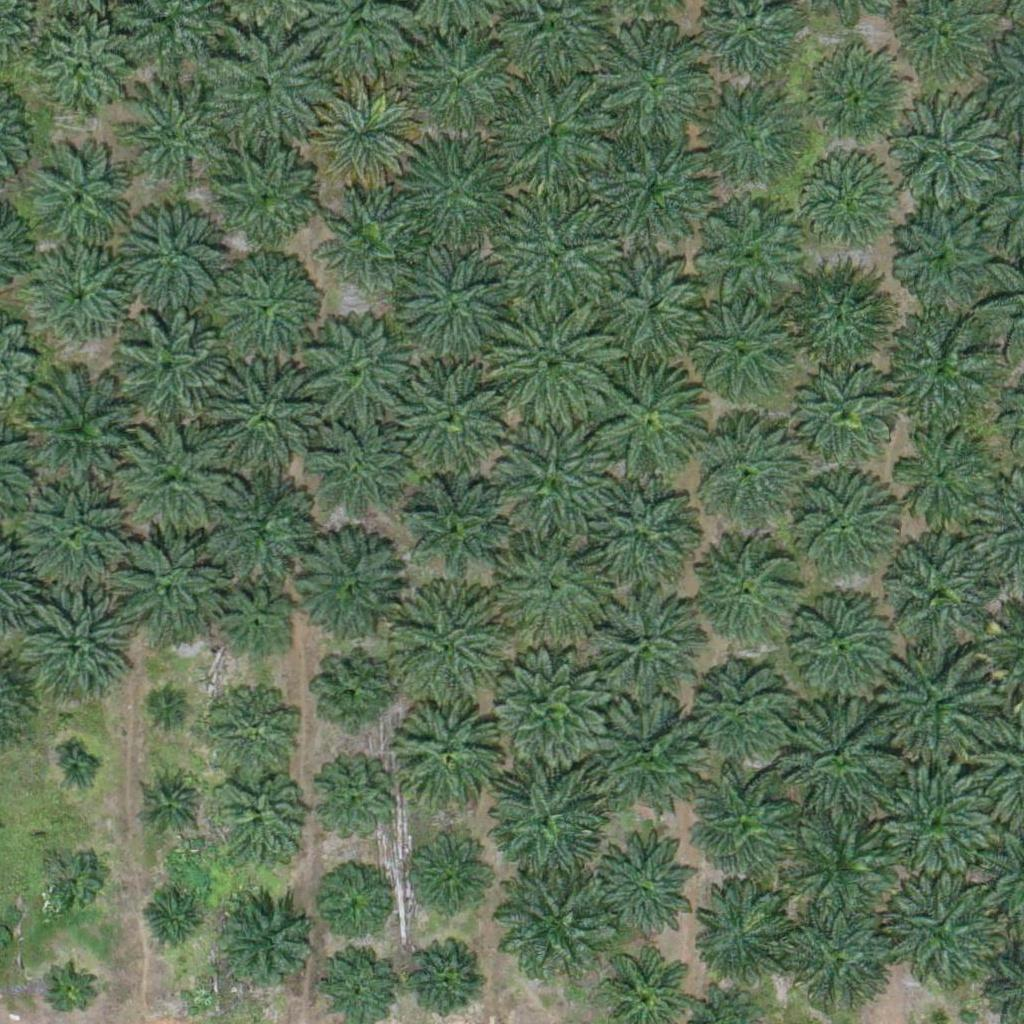Kelapa_Sawit: (876, 542, 1001, 668), (22, 369, 147, 495), (489, 74, 614, 200), (495, 193, 620, 319), (489, 296, 614, 421), (17, 477, 130, 591), (592, 26, 705, 140), (783, 909, 896, 1022), (785, 806, 898, 919), (789, 694, 902, 807), (688, 415, 801, 528), (687, 760, 800, 873), (597, 365, 710, 478), (587, 470, 700, 583), (584, 588, 697, 701), (497, 862, 610, 975), (387, 694, 500, 807), (290, 534, 403, 647), (208, 362, 321, 475), (194, 463, 307, 576), (15, 586, 128, 699), (889, 96, 1002, 209), (683, 292, 796, 405), (597, 251, 710, 364), (599, 132, 712, 245), (308, 81, 421, 194), (305, 314, 418, 427), (210, 34, 323, 147), (206, 139, 319, 252), (108, 523, 220, 637), (878, 306, 990, 420), (783, 257, 895, 371), (689, 193, 801, 307), (883, 647, 995, 760), (882, 762, 994, 875), (885, 877, 997, 990), (790, 578, 902, 691), (786, 465, 898, 578), (593, 692, 705, 805), (589, 838, 701, 951), (496, 419, 608, 532), (494, 528, 606, 641), (492, 647, 604, 760), (488, 762, 600, 875), (390, 584, 502, 697), (119, 421, 231, 534), (405, 25, 517, 138), (395, 134, 507, 247), (395, 245, 507, 358), (394, 357, 506, 470), (118, 79, 230, 192), (114, 311, 226, 424), (701, 534, 801, 635), (692, 658, 792, 759), (693, 880, 793, 981), (404, 481, 504, 582), (213, 893, 313, 994), (34, 21, 134, 122), (216, 259, 316, 360), (123, 204, 223, 305), (31, 153, 131, 254), (892, 423, 992, 523), (795, 364, 895, 464), (897, 204, 997, 304), (802, 48, 902, 148), (798, 155, 898, 255), (703, 87, 803, 187), (32, 246, 132, 346), (208, 684, 296, 772), (216, 778, 304, 866), (326, 196, 413, 285), (402, 831, 489, 919), (313, 428, 400, 516), (316, 654, 391, 730), (410, 947, 485, 1023), (318, 769, 393, 845), (214, 587, 289, 663), (318, 874, 381, 937), (142, 892, 205, 955), (37, 847, 100, 910), (43, 969, 93, 1020), (145, 777, 195, 827), (153, 688, 191, 726), (58, 750, 95, 788)
